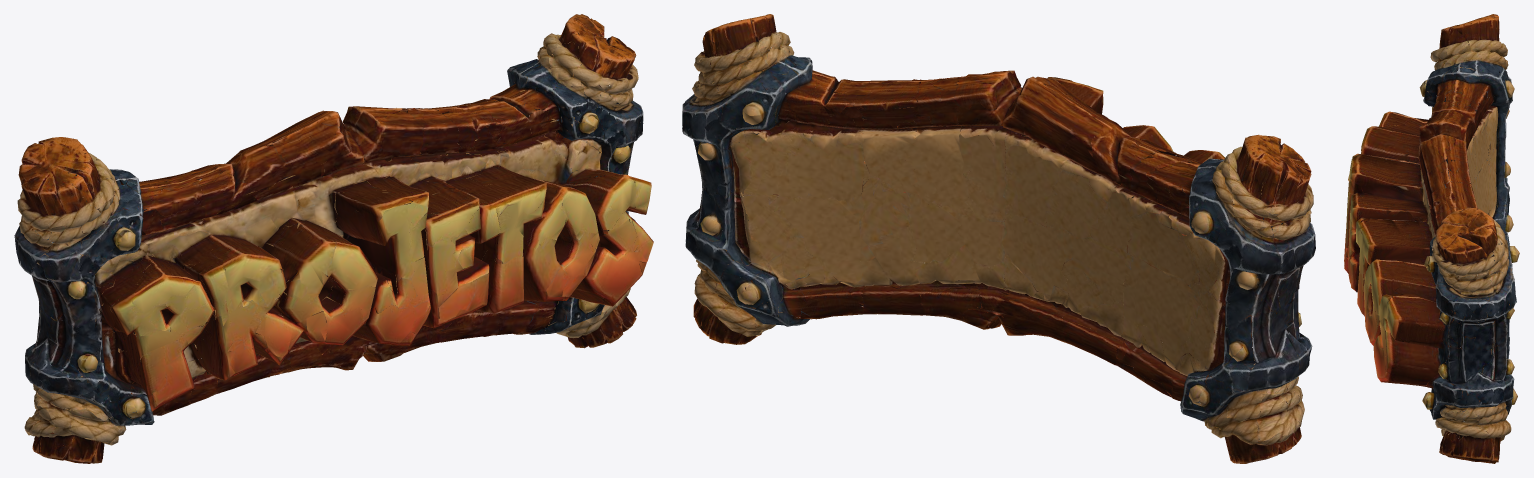
The model's file is title_projetos.glb.
The picture shows the model from 3 angles, left to right: view 1: azimuth 30°, elevation 25°; view 2: azimuth 150°, elevation 25°; view 3: azimuth 270°, elevation 25°; orthographic projection. The views are drawn at different scales.
Visible parts, largest first — view 1: Mesh_0; view 2: Mesh_0; view 3: Mesh_0.
Part boxes in pixels (x1,y1,x2,y2): Mesh_0: [14, 14, 653, 463]; Mesh_0: [682, 14, 1315, 463]; Mesh_0: [1344, 14, 1519, 463].
Size of the model in its own units: 1.9 by 0.9605 by 0.6128.
Materials: 1 (1 with a texture image).
